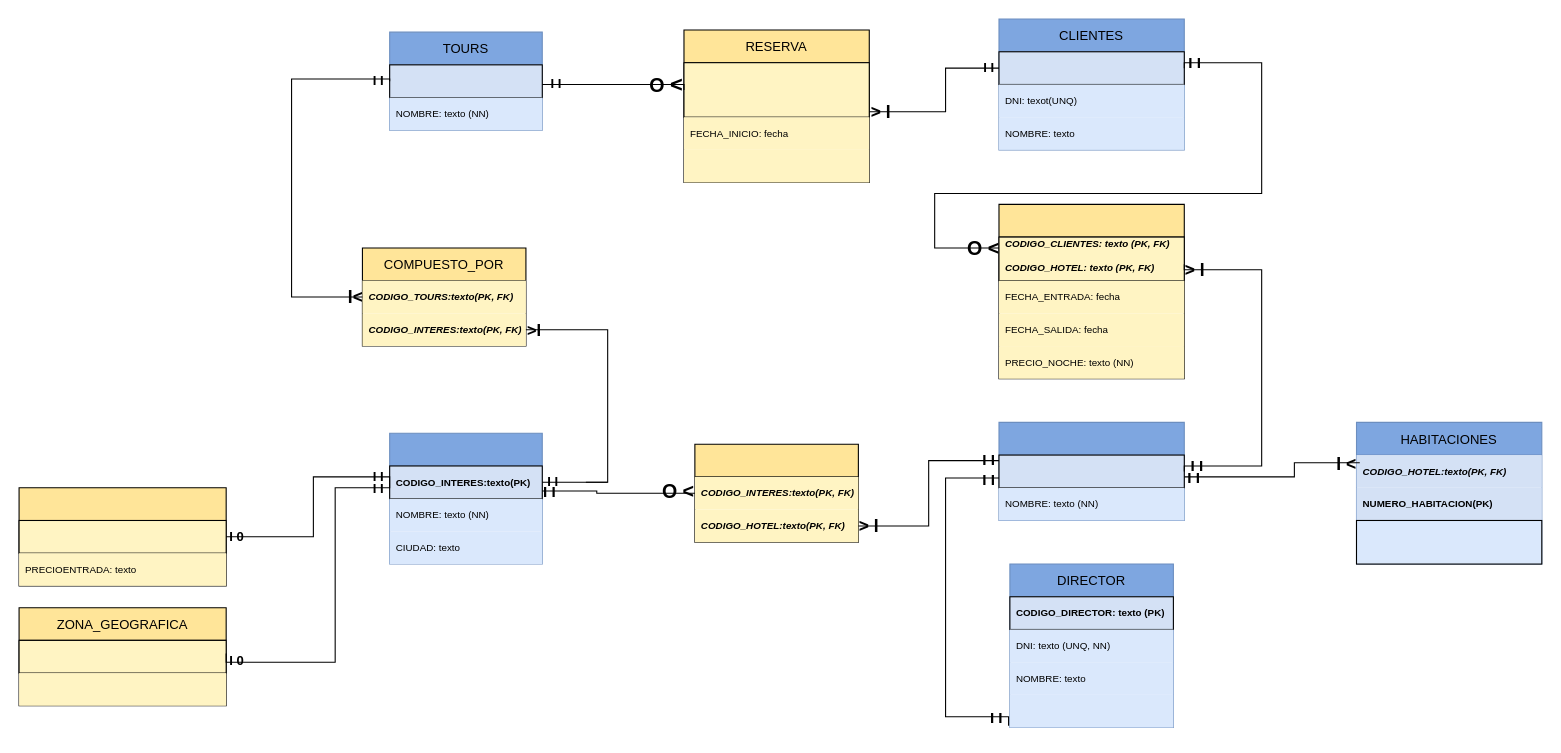
Some shapes in this 1561 by 753 pixel diagram are drawn without their labels. Each missing label, with the box of its shape:
ALOJA: (998, 203, 1184, 379)
CODIGO_CLIENTES:texto(PK): (998, 51, 1184, 84)
CODIGO_HOTEL:texto(FK): (1009, 694, 1173, 727)
CODIGO_HOTEL:texto(PK): (998, 454, 1184, 488)
CODIGO_INTERES_MON:texto(PK,FK): (18, 519, 226, 553)
CODIGO_INTERES_ZONA:texto(PK,FK): (18, 639, 226, 673)
CODIGO_TOURS:texto(PK): (389, 64, 542, 98)
CODIGO_TOURS:texto(PK, FK) CODIGO_CLIENTES:texto(PK, FK): (683, 62, 869, 117)
FECHA_FIN: fecha: (683, 149, 869, 182)
HOTELES: (998, 421, 1184, 520)
KM: num: (19, 673, 226, 705)
MONUMENTOS: (18, 487, 226, 586)
PUNTO_DE_INTERES: (389, 432, 542, 564)
TIENE: (694, 443, 858, 542)
TIPO: texto (NN) NUMERO_CAMAS: num: (1355, 519, 1542, 564)
